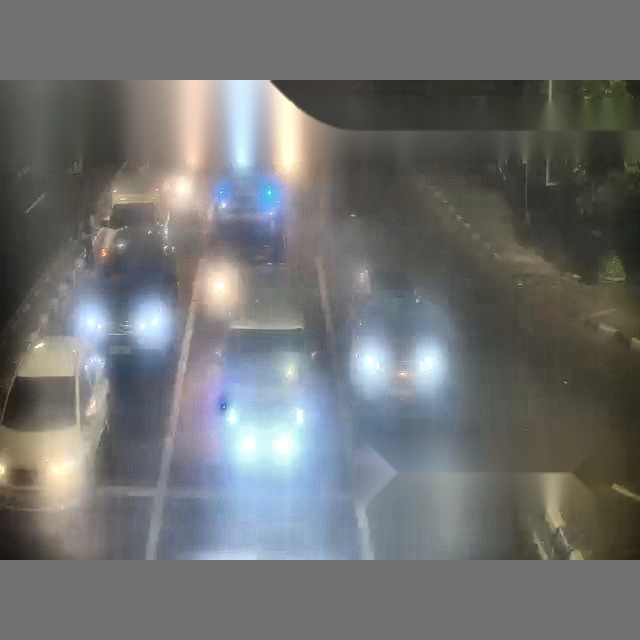Motor: (98, 226, 125, 272)
